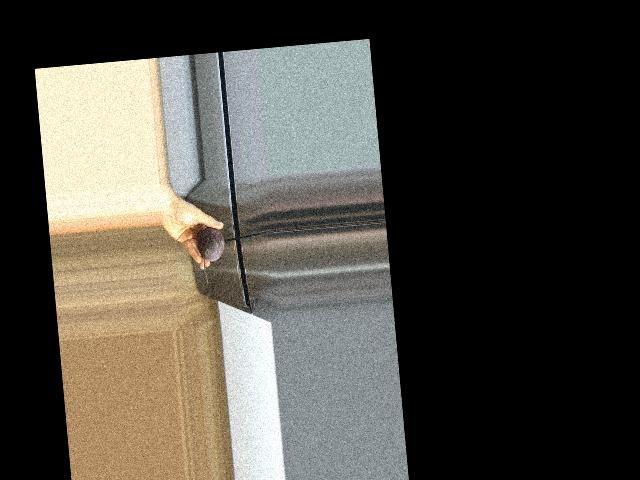beet: (196, 226, 228, 285)
